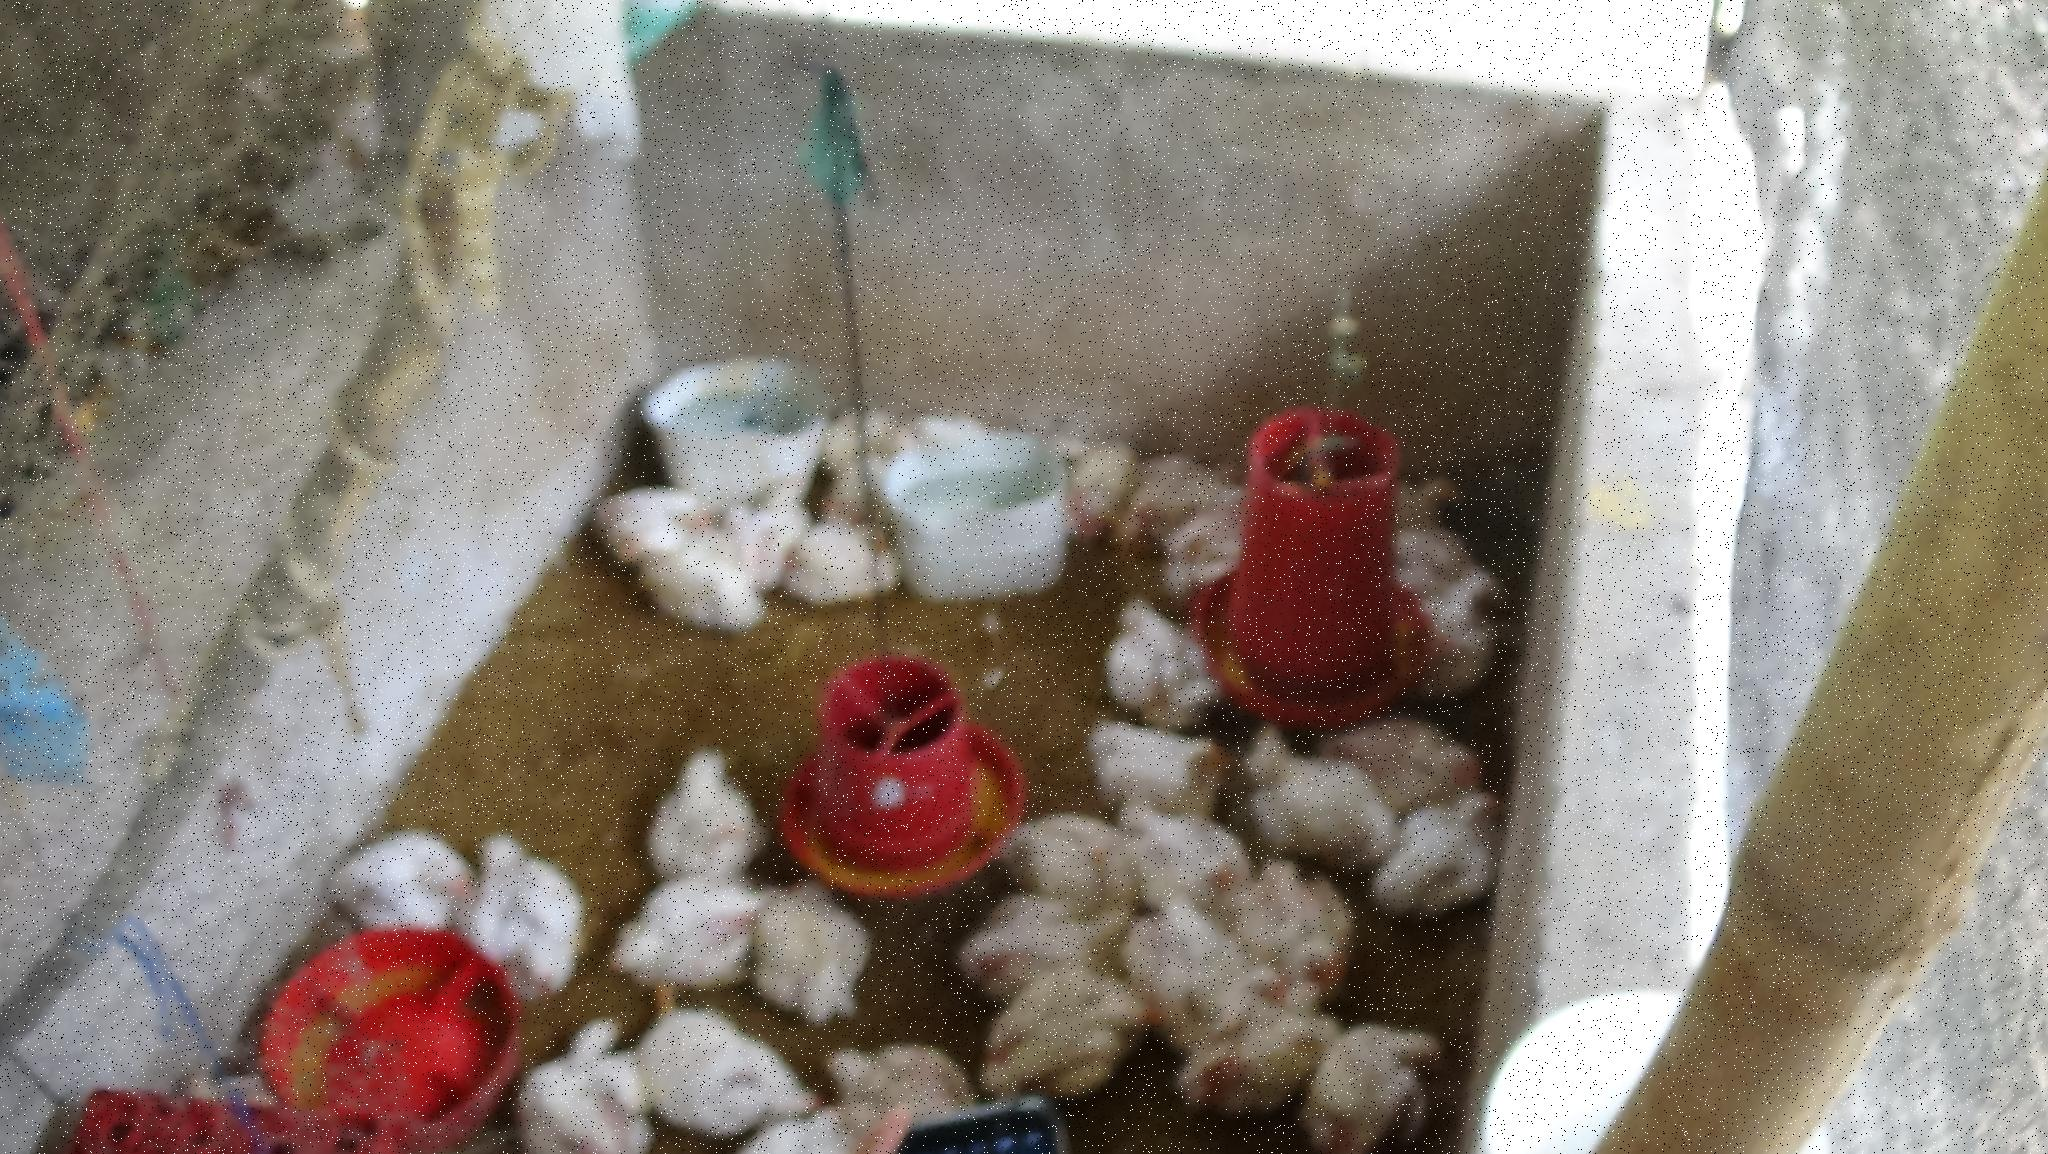Pollos: (975, 965, 1156, 1099), (633, 1010, 817, 1141), (339, 782, 478, 939), (504, 1010, 646, 1154), (1239, 729, 1395, 858), (473, 825, 580, 1003), (1385, 577, 1521, 709), (824, 1033, 999, 1134), (647, 721, 765, 864), (601, 875, 753, 987), (1129, 899, 1250, 1034), (1338, 1030, 1468, 1154), (1183, 1013, 1328, 1117), (1077, 714, 1215, 820), (1404, 784, 1513, 916), (620, 552, 788, 638), (1107, 592, 1225, 712), (765, 899, 883, 1017), (1131, 818, 1265, 903), (1260, 885, 1370, 989), (992, 818, 1131, 899), (1360, 715, 1484, 798), (800, 512, 913, 602), (591, 480, 695, 546), (1395, 457, 1478, 531)
